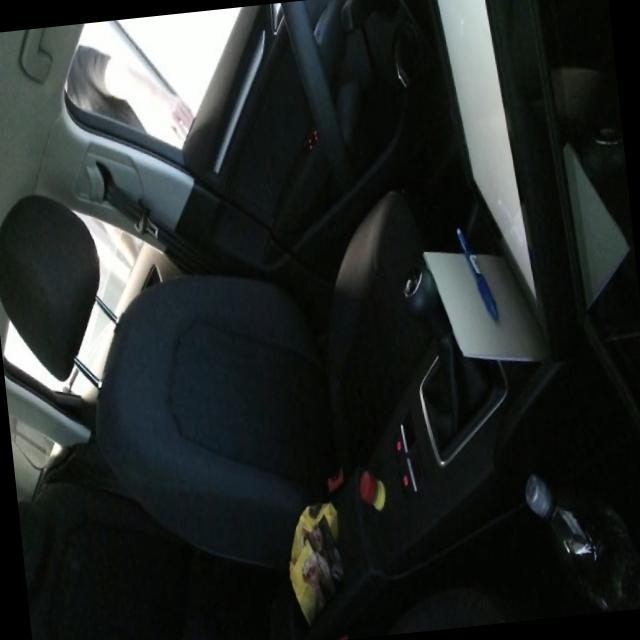pen: (454, 222, 499, 324)
